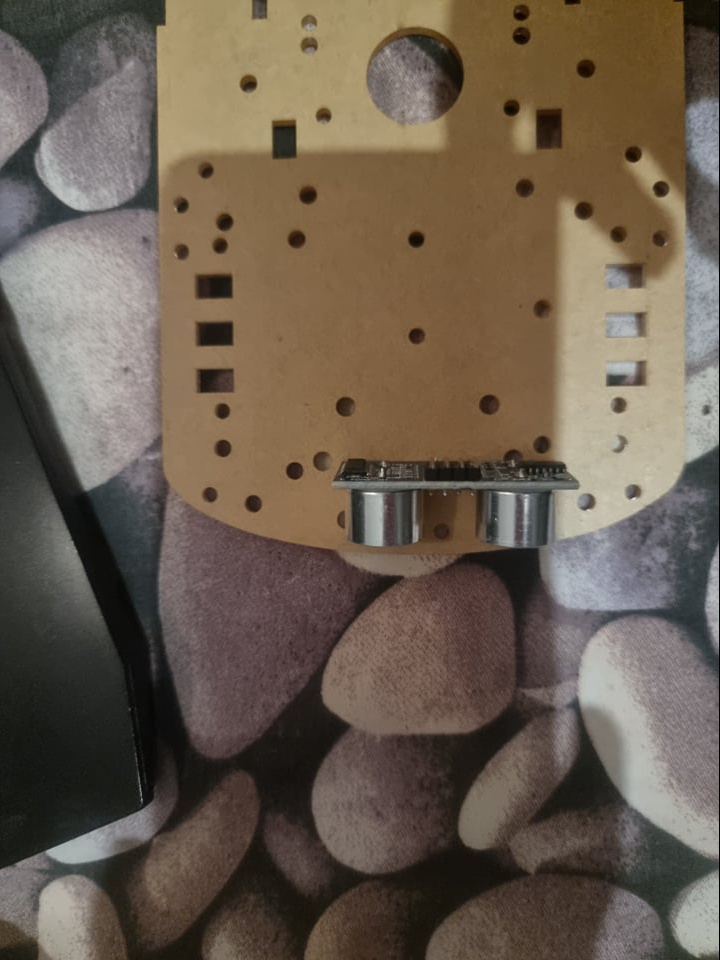SENSOR: (332, 454, 583, 551)
